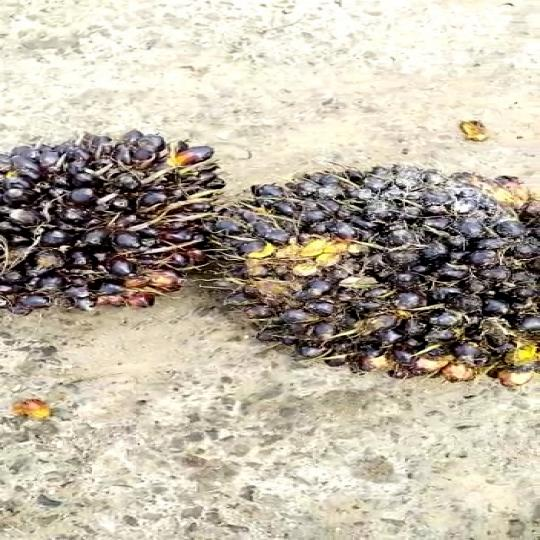mentah: (209, 142, 540, 408), (0, 108, 237, 344)
